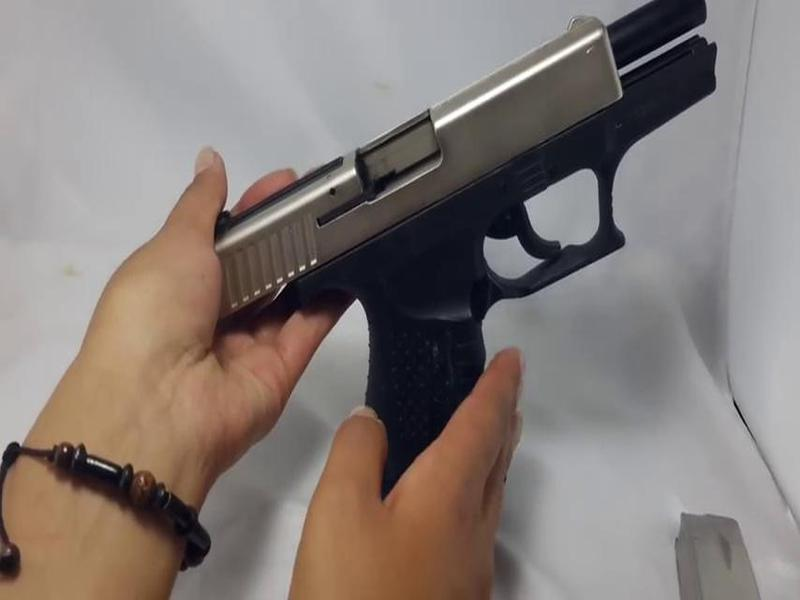Pistola: (162, 19, 734, 484)
